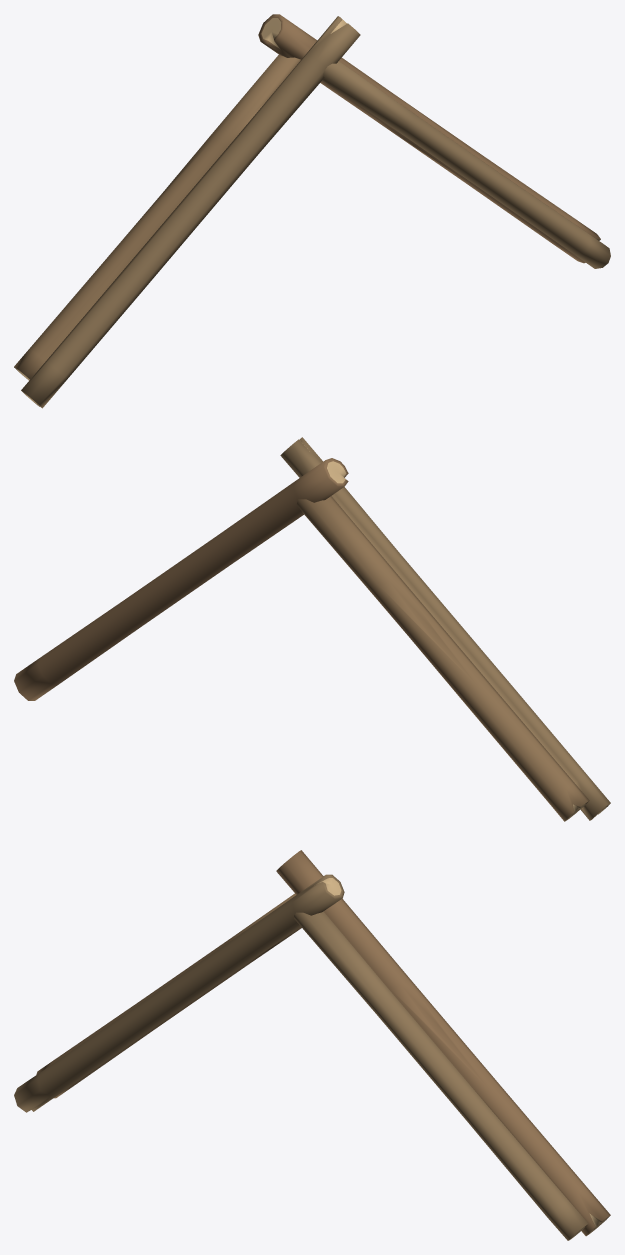
File: rpgpp_ag_roof_01_6x3x3_end_01a.fbx
The picture shows the model from 3 angles, top to bottom: view 1: azimuth 30°, elevation 25°; view 2: azimuth 150°, elevation 25°; view 3: azimuth 330°, elevation 25°; orthographic projection. The views are drawn at different scales.
Visible parts, largest first — view 1: rpgpp_ag_roof_01_6x3x3_end_01a; view 2: rpgpp_ag_roof_01_6x3x3_end_01a; view 3: rpgpp_ag_roof_01_6x3x3_end_01a.
Boxes of the visible parts, x1,y1,x2,y2 form: rpgpp_ag_roof_01_6x3x3_end_01a: (14,14,610,408); rpgpp_ag_roof_01_6x3x3_end_01a: (14,437,610,821); rpgpp_ag_roof_01_6x3x3_end_01a: (14,850,610,1240).
Bounding box in the file's own units: 8.46 × 4.37 × 0.8135.
